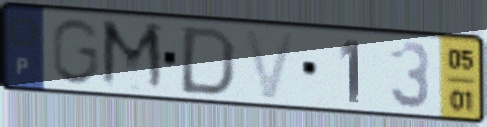1: (338, 38, 362, 105)
3: (386, 39, 431, 112)
D: (175, 24, 239, 99)
G: (48, 16, 103, 88)
M: (98, 16, 169, 96)
V: (241, 26, 301, 102)
